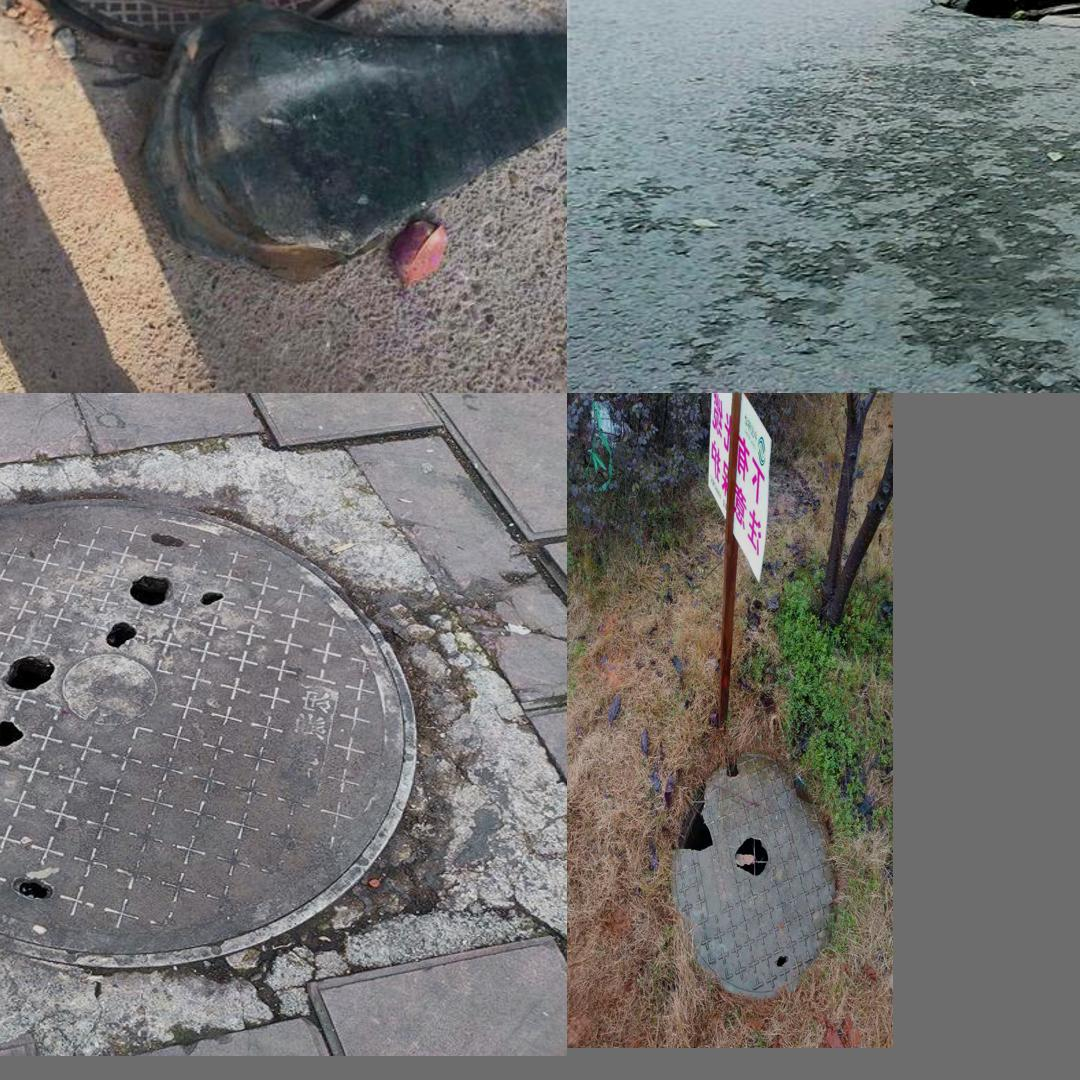broke: (0, 499, 419, 965), (671, 750, 837, 997), (0, 0, 468, 54), (873, 0, 1080, 52)
